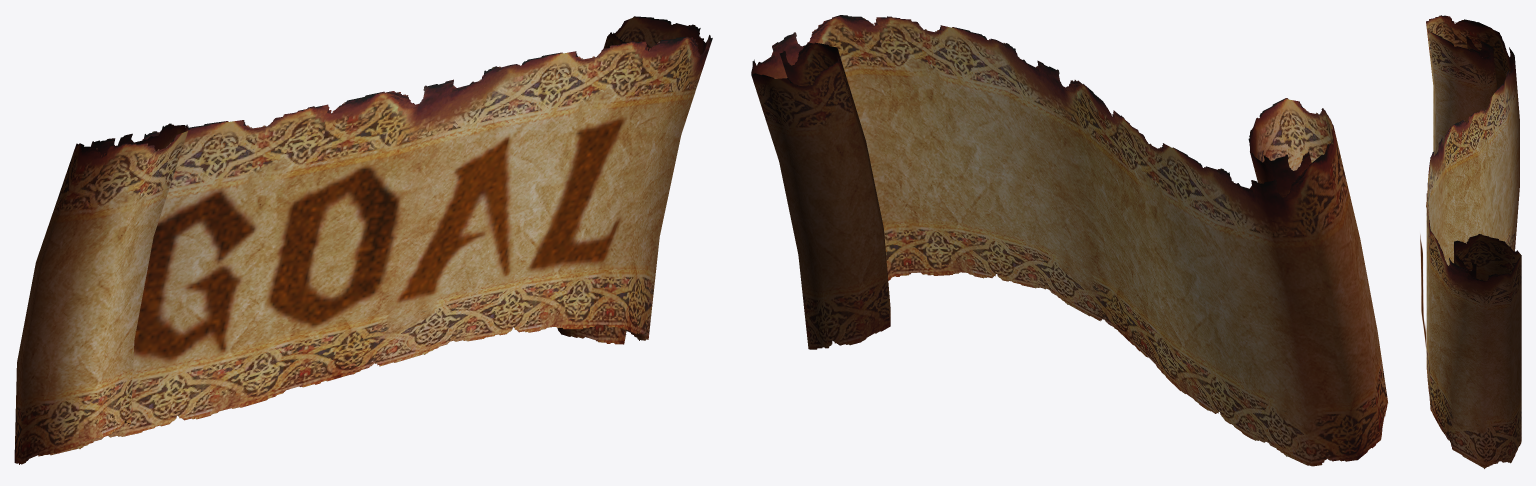
File: Goal.gltf
The picture shows the model from 3 angles, left to right: view 1: azimuth 30°, elevation 25°; view 2: azimuth 150°, elevation 25°; view 3: azimuth 270°, elevation 25°; orthographic projection. The views are drawn at different scales.
Visible parts, largest first — view 1: Goal; view 2: Goal; view 3: Goal.
Part boxes in pixels (x1,y1,x2,y2): Goal: (14, 16, 712, 464); Goal: (751, 15, 1387, 466); Goal: (1420, 15, 1521, 468).
Bounding box in the file's own units: 6.6 × 3.32 × 1.17.
Materials: 2 (2 with a texture image).
